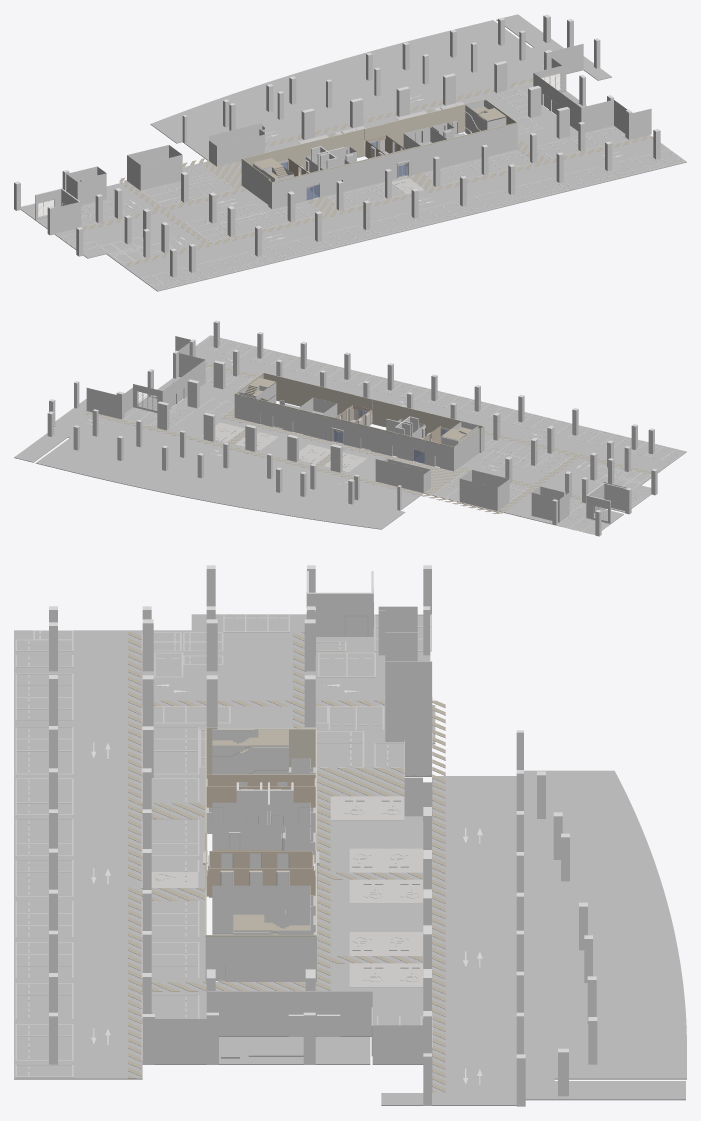
3 renders of one model, top to bottom at view 1: azimuth 30°, elevation 25°; view 2: azimuth 150°, elevation 25°; view 3: azimuth 270°, elevation 25°, orthographic. The views are drawn at different scales.
Visible parts, largest first — view 1: A8_B2F_Out_Floor, A8_B2F_Out_Wall, A8_B2F_Pillar, A8_B2F_Parking Line, A8_B2F_Mark, A8_B2F_Wall, A8_B2F_Disabled Parking Line, A8_B2F_Stairs, A8_B2F_Door, A8_B2F_Slide Glass Door, A8_B2F_Vent; view 2: A8_B2F_Out_Floor, A8_B2F_Out_Wall, A8_B2F_Pillar, A8_B2F_Parking Line, A8_B2F_Mark, A8_B2F_Wall, A8_B2F_Disabled Parking Line, A8_B2F_Door, A8_B2F_Stairs, A8_B2F_Floor, A8_B2F_Vent, A8_B2F_Slide Glass Door; view 3: A8_B2F_Out_Floor, A8_B2F_Out_Wall, A8_B2F_Pillar, A8_B2F_Wall, A8_B2F_Mark, A8_B2F_Parking Line, A8_B2F_Disabled Parking Line, A8_B2F_Floor, A8_B2F_Door, A8_B2F_Stairs, A8_B2F_Elev.
Boxes of the visible parts, left/top/right/bottom form: A8_B2F_Out_Floor: left=21, top=14, right=686, bottom=291; A8_B2F_Out_Wall: left=35, top=43, right=651, bottom=233; A8_B2F_Pillar: left=14, top=14, right=660, bottom=277; A8_B2F_Parking Line: left=21, top=82, right=684, bottom=287; A8_B2F_Mark: left=82, top=65, right=653, bottom=266; A8_B2F_Wall: left=253, top=100, right=506, bottom=194; A8_B2F_Disabled Parking Line: left=283, top=102, right=464, bottom=194; A8_B2F_Stairs: left=253, top=106, right=505, bottom=178; A8_B2F_Door: left=62, top=93, right=557, bottom=205; A8_B2F_Slide Glass Door: left=278, top=139, right=408, bottom=200; A8_B2F_Vent: left=38, top=72, right=561, bottom=217; A8_B2F_Out_Floor: left=14, top=335, right=686, bottom=534; A8_B2F_Out_Wall: left=86, top=336, right=626, bottom=523; A8_B2F_Pillar: left=47, top=320, right=657, bottom=536; A8_B2F_Parking Line: left=123, top=336, right=681, bottom=534; A8_B2F_Mark: left=82, top=359, right=651, bottom=513; A8_B2F_Wall: left=239, top=382, right=478, bottom=458; A8_B2F_Disabled Parking Line: left=201, top=414, right=427, bottom=472; A8_B2F_Door: left=171, top=388, right=595, bottom=512; A8_B2F_Stairs: left=245, top=377, right=472, bottom=440; A8_B2F_Floor: left=137, top=377, right=423, bottom=462; A8_B2F_Vent: left=138, top=391, right=608, bottom=521; A8_B2F_Slide Glass Door: left=332, top=409, right=449, bottom=463; A8_B2F_Out_Floor: left=14, top=614, right=686, bottom=1105; A8_B2F_Out_Wall: left=155, top=570, right=432, bottom=1092; A8_B2F_Pillar: left=49, top=565, right=597, bottom=1106; A8_B2F_Wall: left=206, top=729, right=315, bottom=934; A8_B2F_Mark: left=91, top=632, right=482, bottom=1092; A8_B2F_Parking Line: left=15, top=614, right=431, bottom=1077; A8_B2F_Disabled Parking Line: left=141, top=796, right=422, bottom=987; A8_B2F_Floor: left=209, top=850, right=370, bottom=1064; A8_B2F_Door: left=206, top=615, right=368, bottom=1036; A8_B2F_Stairs: left=212, top=729, right=309, bottom=934; A8_B2F_Elev: left=220, top=789, right=289, bottom=885.
Size of the model in its own units: 105 by 4.96 by 60.44.
